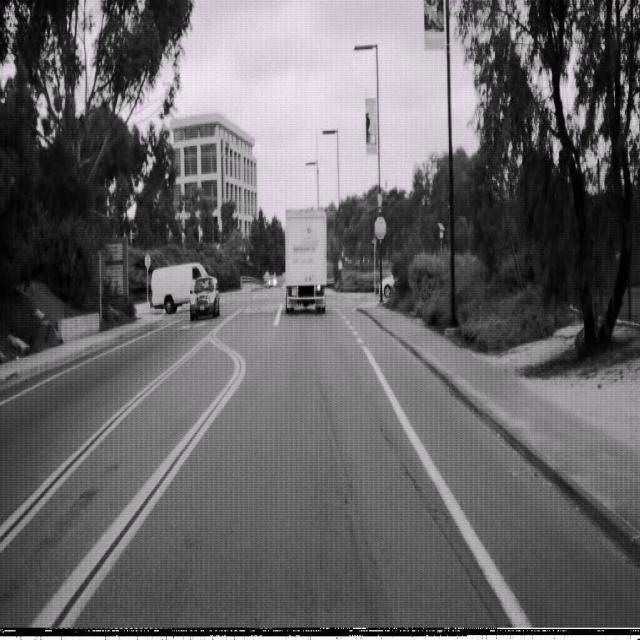stop: (374, 214, 387, 242)
